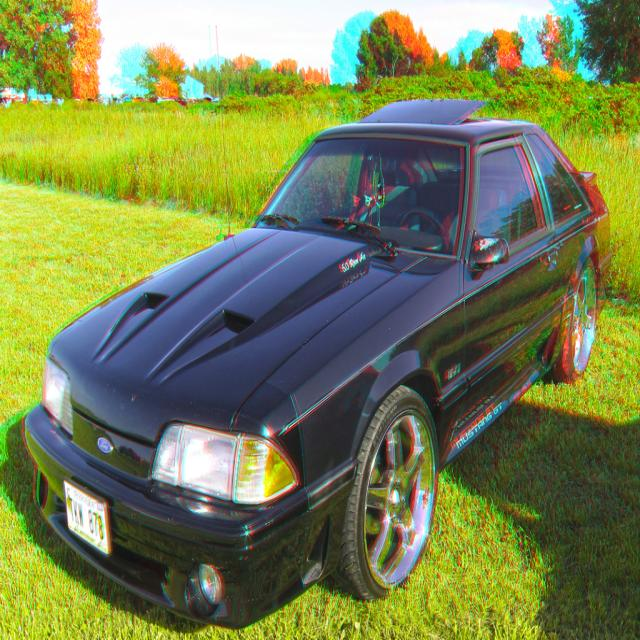car: (23, 96, 613, 620)
